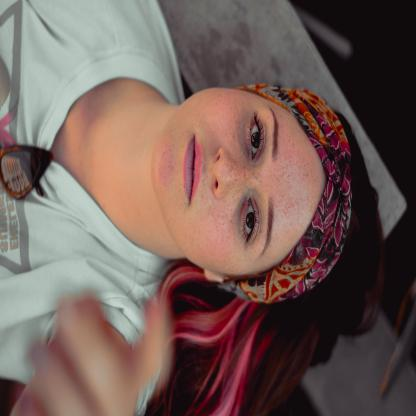Eye: (239, 196, 260, 248), (245, 112, 266, 162)
Mouth: (183, 134, 203, 207)
Nose: (212, 146, 253, 198)
